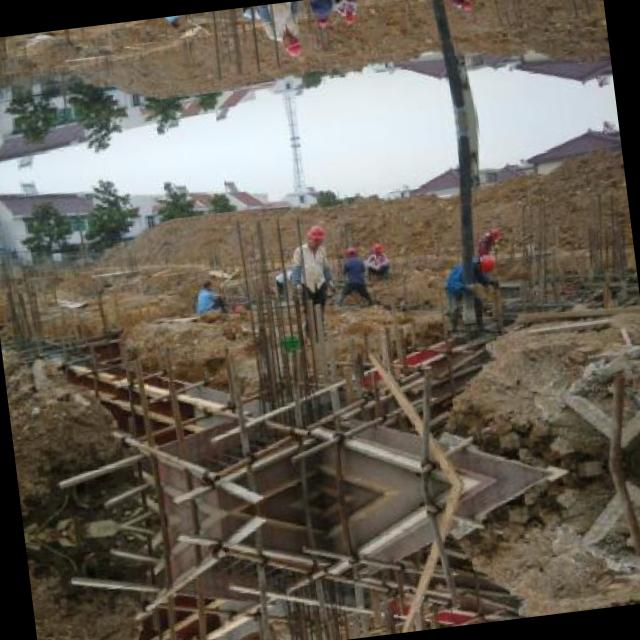helmet: (278, 28, 304, 58), (301, 221, 327, 250), (474, 251, 499, 274), (482, 222, 502, 240), (368, 238, 384, 258), (340, 6, 355, 27), (454, 0, 473, 13)
